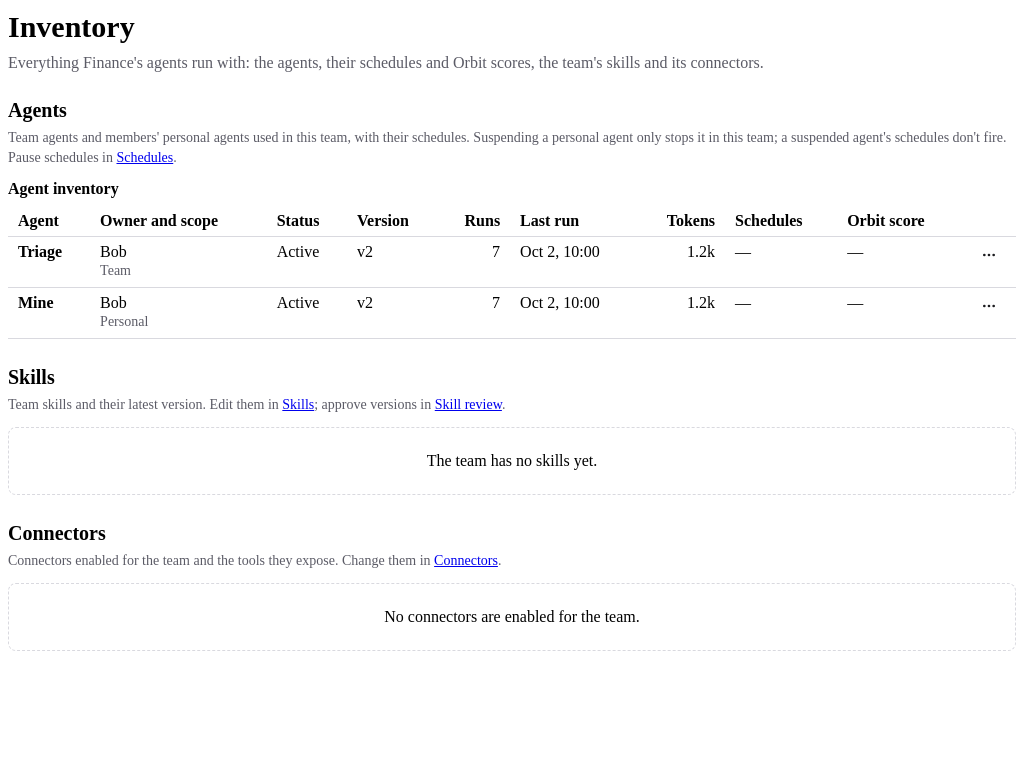
Test: Inventory: agents (KOBE-86, moved here by KOBE-291) › suspends and reactivates any listed agent, personal ones included
Click the button named "Actions for Mine" at [989, 306], box [972,292,1006,320]
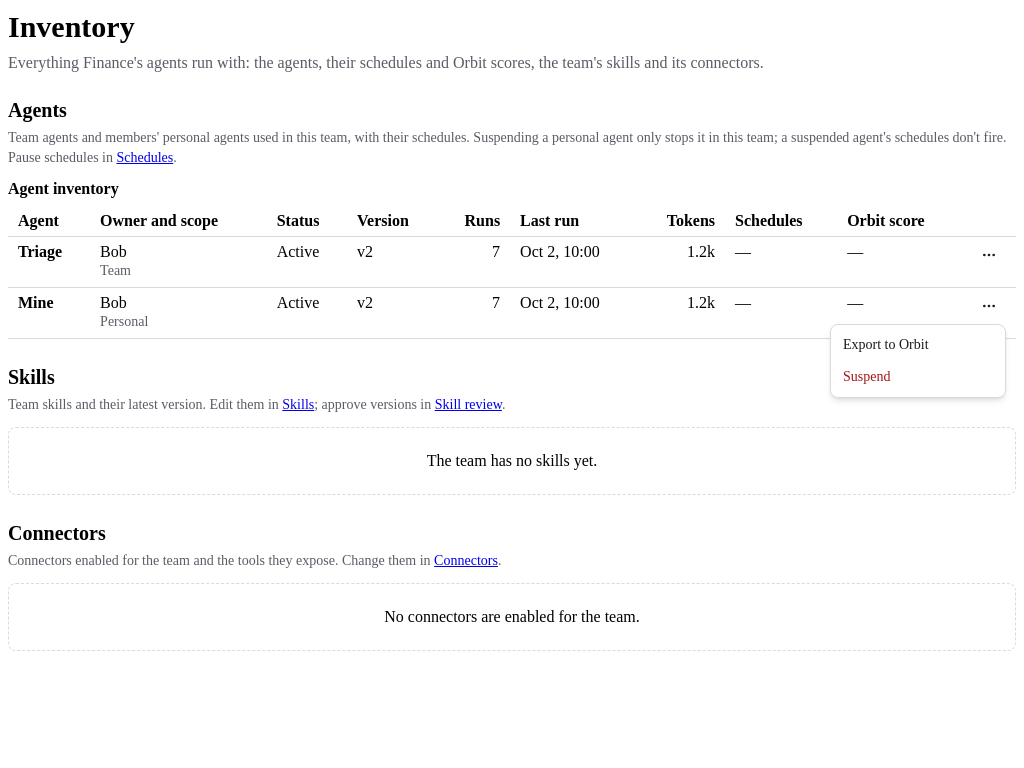
Click the menu item "Suspend" at [867, 376], box [843,369,890,384]
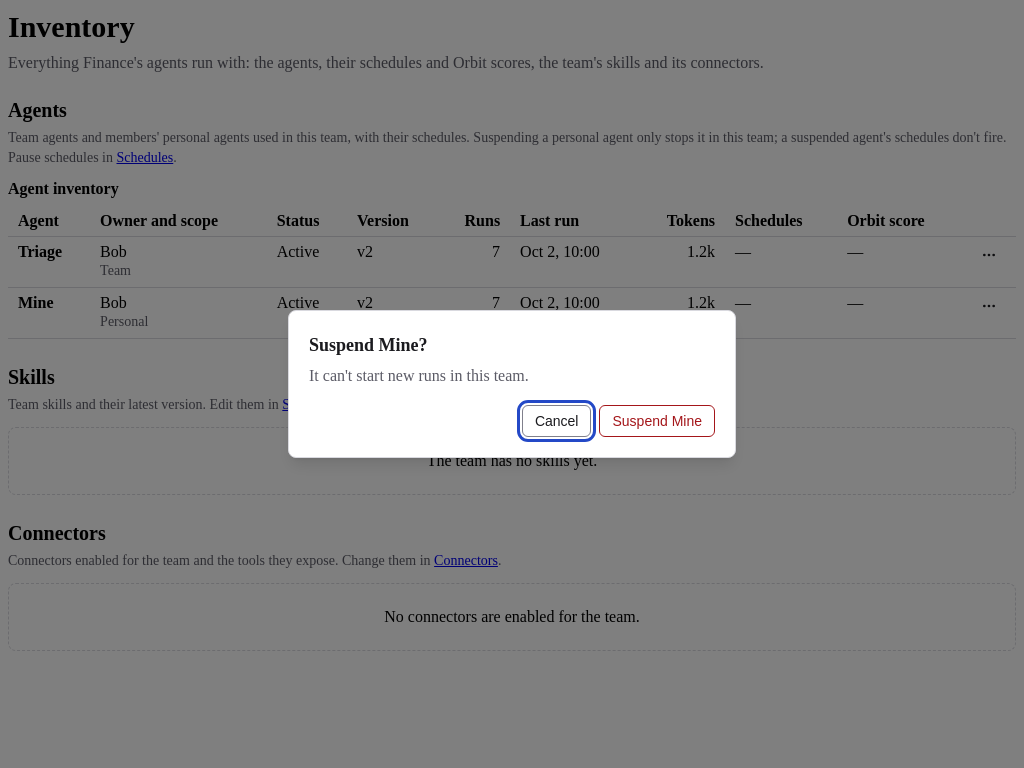
Click the button "Suspend Mine" at [657, 421], box [600,405,715,437]
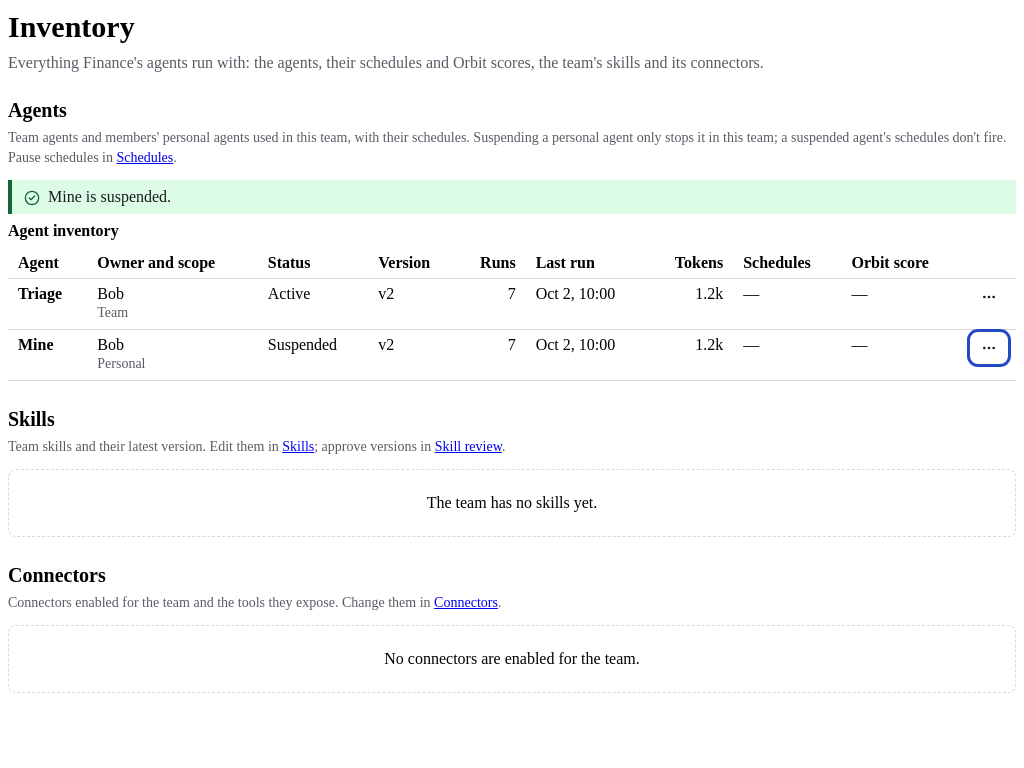
Check: the text "Mine is suspended." is shown, box [48,188,171,204]
Click the button named "Actions for Mine" at [989, 348], box [972,334,1006,362]
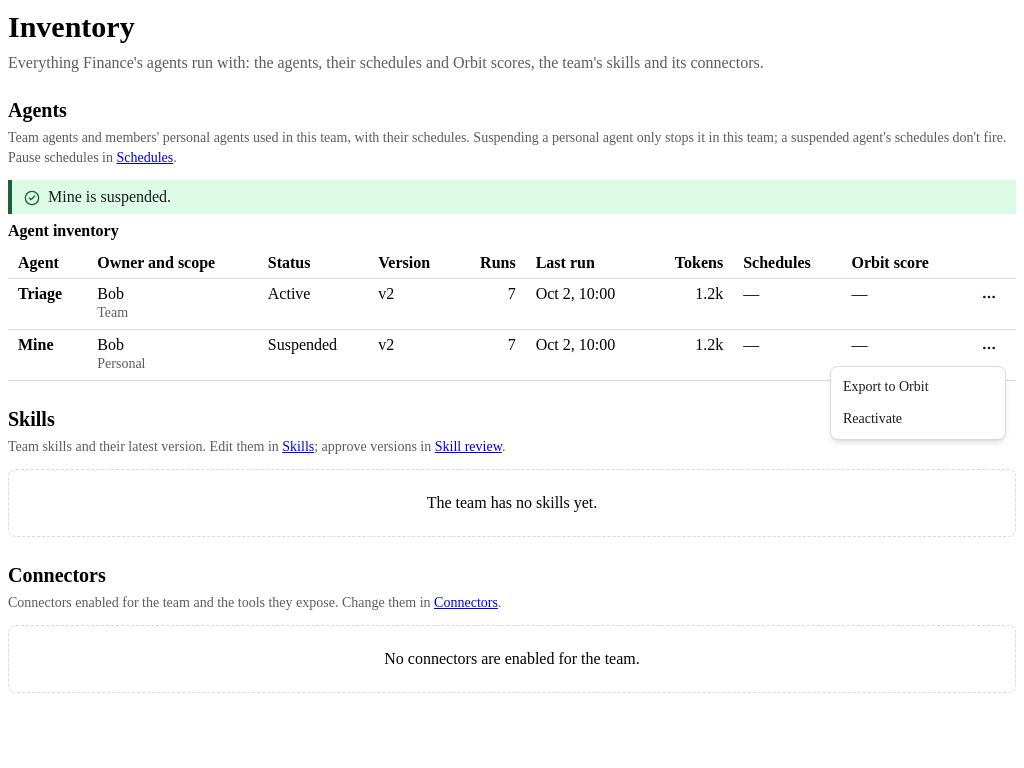
Press Escape
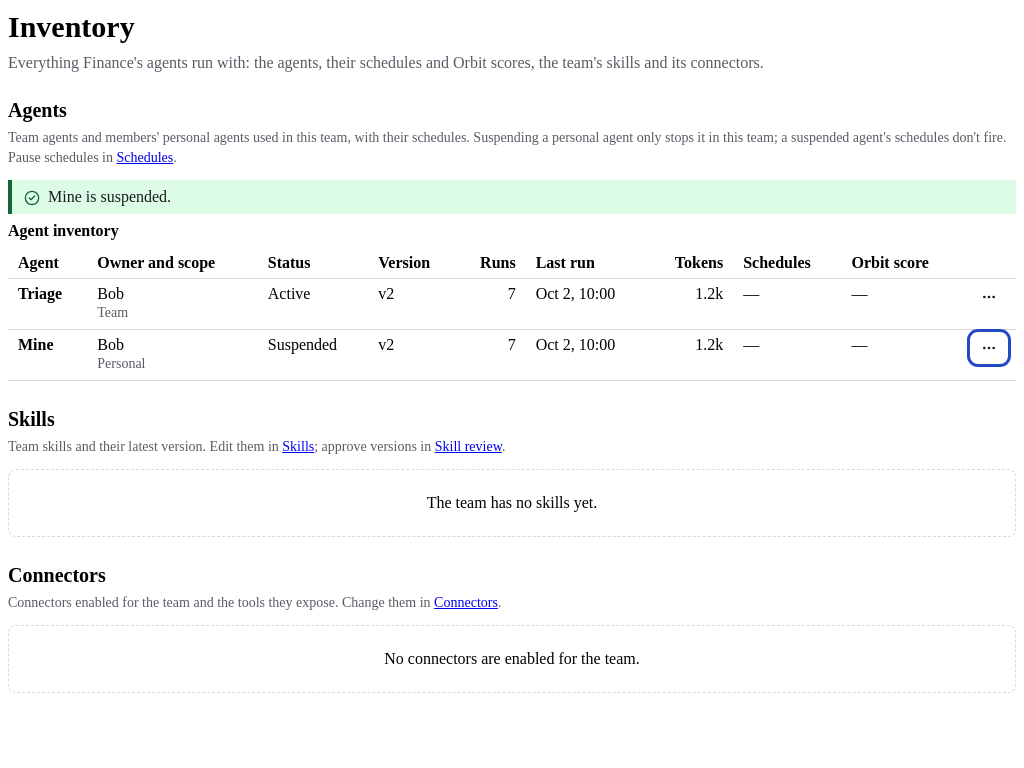
Check: the menu is gone
